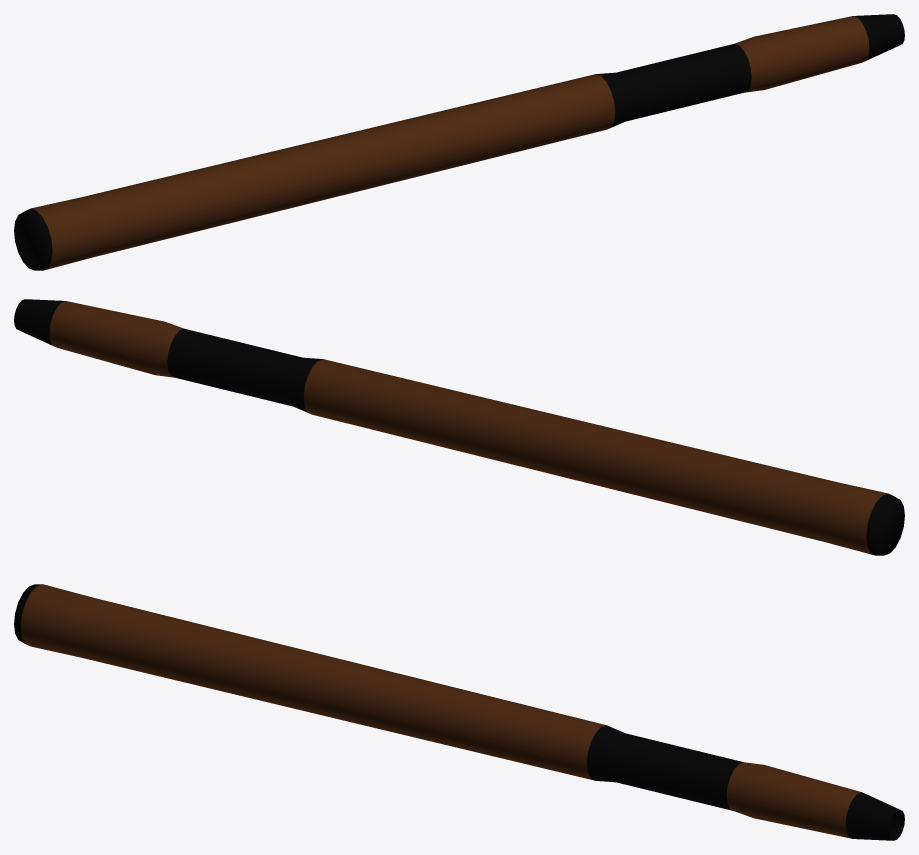
File: SM_RodHandle.fbx
3 renders of one model, top to bottom at view 1: azimuth 30°, elevation 25°; view 2: azimuth 150°, elevation 25°; view 3: azimuth 330°, elevation 25°, orthographic.
Parts seen in each view (by area): view 1: SM_RodHandle; view 2: SM_RodHandle; view 3: SM_RodHandle.
Boxes of the visible parts, box(x1,y1,x2,y2) form: SM_RodHandle: box(14, 14, 904, 270); SM_RodHandle: box(14, 299, 904, 555); SM_RodHandle: box(14, 584, 904, 840).
Size of the model in its own units: 44 by 2.8 by 2.8.
